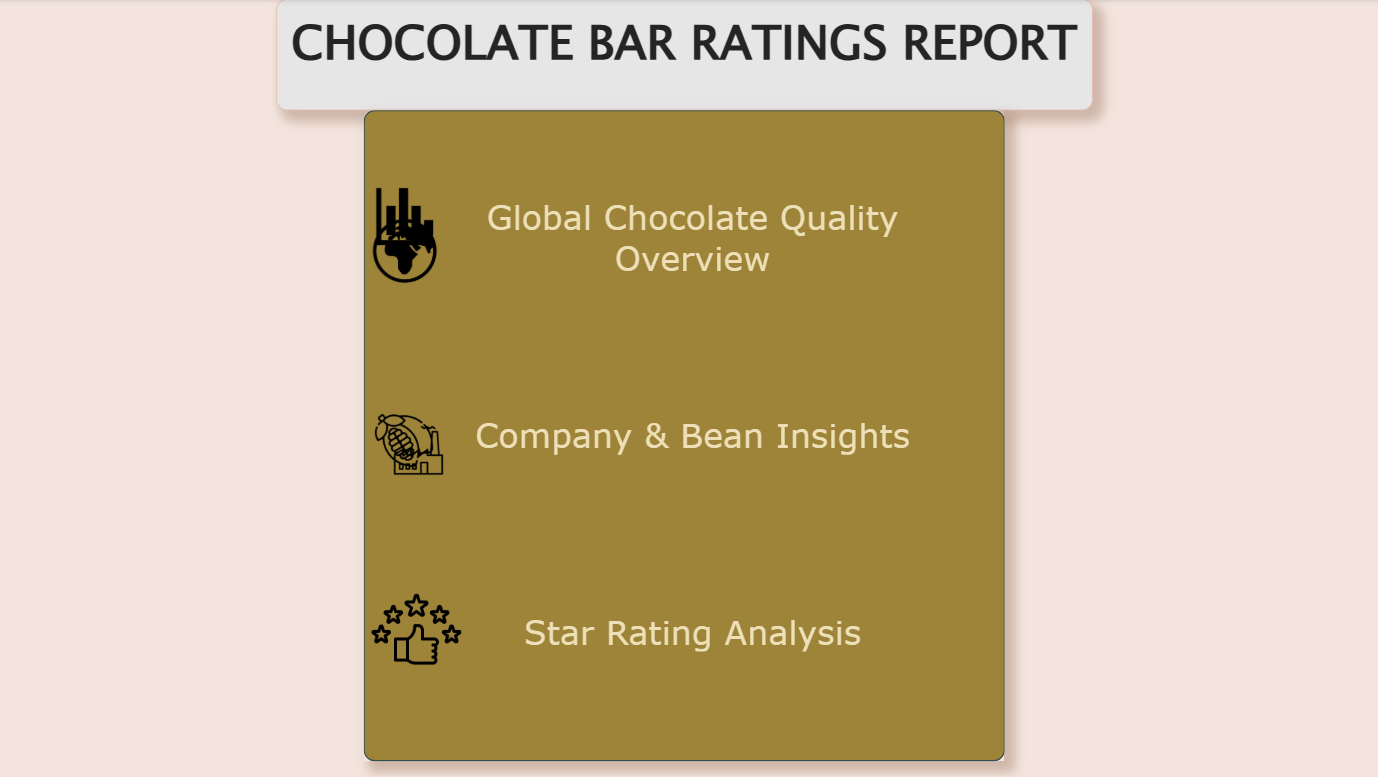

The page's visual inventory and layout, read from the dashboard file:
{"tool":"powerbi","page":{"name":"Home","canvas":[1280,720],"ordinal":0},"visuals":[{"type":"textbox","box":[258.1,0,750.2,102.5],"z":0},{"type":"shape","box":[338.9,102.5,589.1,598.1],"z":1000,"group":"g1"},{"type":"pageNavigator","box":[387.3,133.3,493.9,534.9],"z":3000,"group":"g1"},{"type":"image","title":"Overview","box":[317.9,158.9,116.2,114.5],"z":4000,"group":"g1"},{"type":"image","title":"Star Rating","box":[337.3,529.7,98.5,97.4],"z":5000,"group":"g1"},{"type":"image","title":"Company and Bean","box":[330.8,343.5,88.8,116.2],"z":6000,"group":"g1"},{"type":"group","id":"g1","title":"Group 1","box":[317.9,102.5,610.1,598.1],"z":6001}]}

Visuals, with their boxes in screenshot pixels (x1, y1, x2, y2), scaled from the page's 1280x720 canvas onto the 1378x777 screenshot:
textbox: [x1=278, y1=0, x2=1085, y2=111]
shape: [x1=365, y1=111, x2=999, y2=756]
pageNavigator: [x1=417, y1=144, x2=949, y2=721]
"Overview" image: [x1=342, y1=171, x2=467, y2=295]
"Star Rating" image: [x1=363, y1=572, x2=469, y2=677]
"Company and Bean" image: [x1=356, y1=371, x2=452, y2=496]
"Group 1" group: [x1=342, y1=111, x2=999, y2=756]
